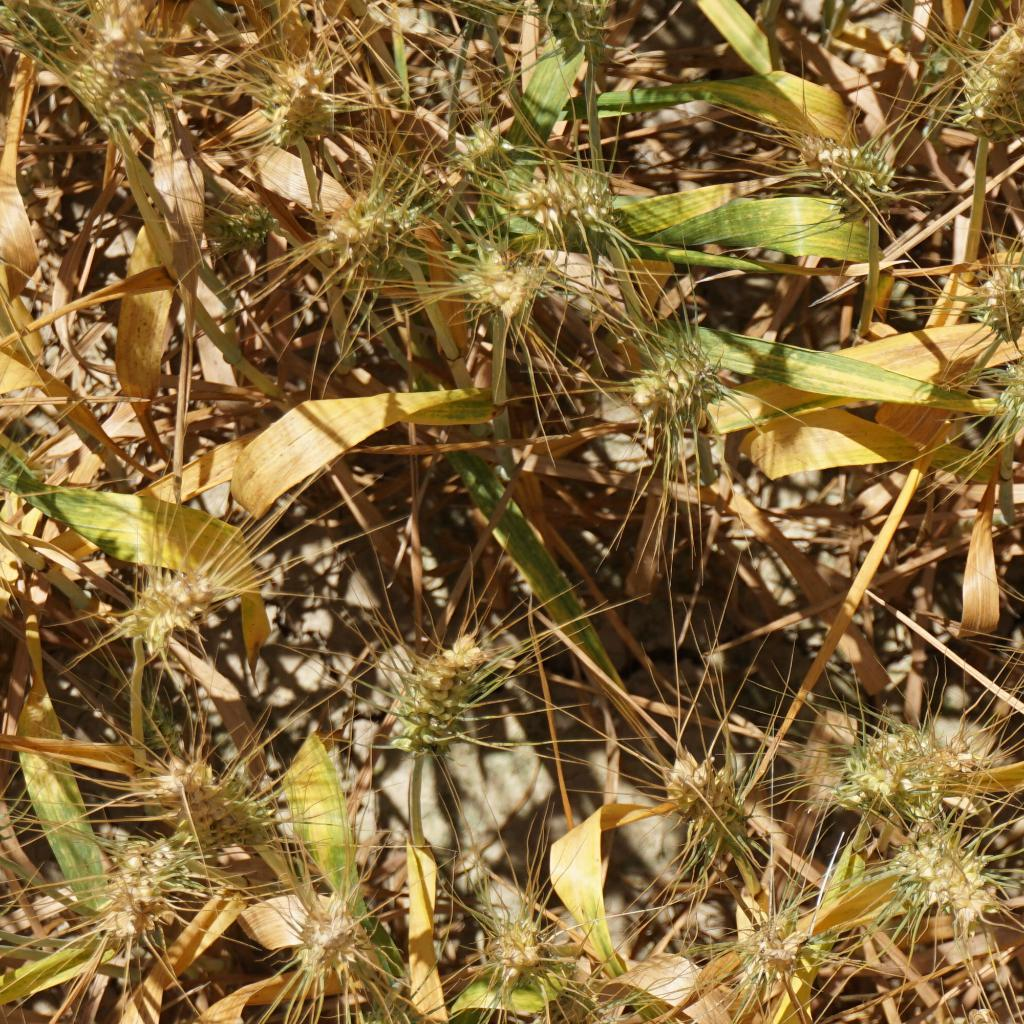0-0: (652, 743, 758, 860), (894, 813, 996, 921), (389, 645, 490, 753), (627, 331, 735, 420), (146, 753, 256, 837), (124, 564, 224, 654), (890, 700, 964, 819), (958, 5, 1024, 129), (102, 833, 175, 940), (285, 880, 359, 976), (523, 160, 617, 228), (271, 52, 342, 142), (793, 140, 899, 199), (738, 904, 815, 985), (477, 896, 556, 972), (455, 237, 533, 311), (837, 722, 912, 796), (331, 180, 391, 264), (969, 256, 1024, 329), (448, 112, 513, 173), (87, 0, 143, 65), (565, 0, 618, 54), (233, 184, 272, 250), (992, 345, 1024, 419), (0, 896, 15, 963)
